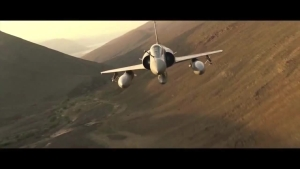flight: (100, 21, 224, 89)
